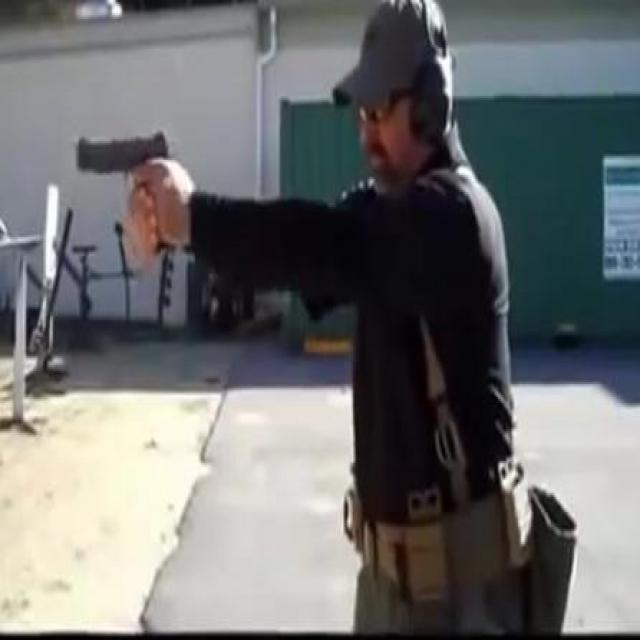weapon: (76, 129, 177, 253)
